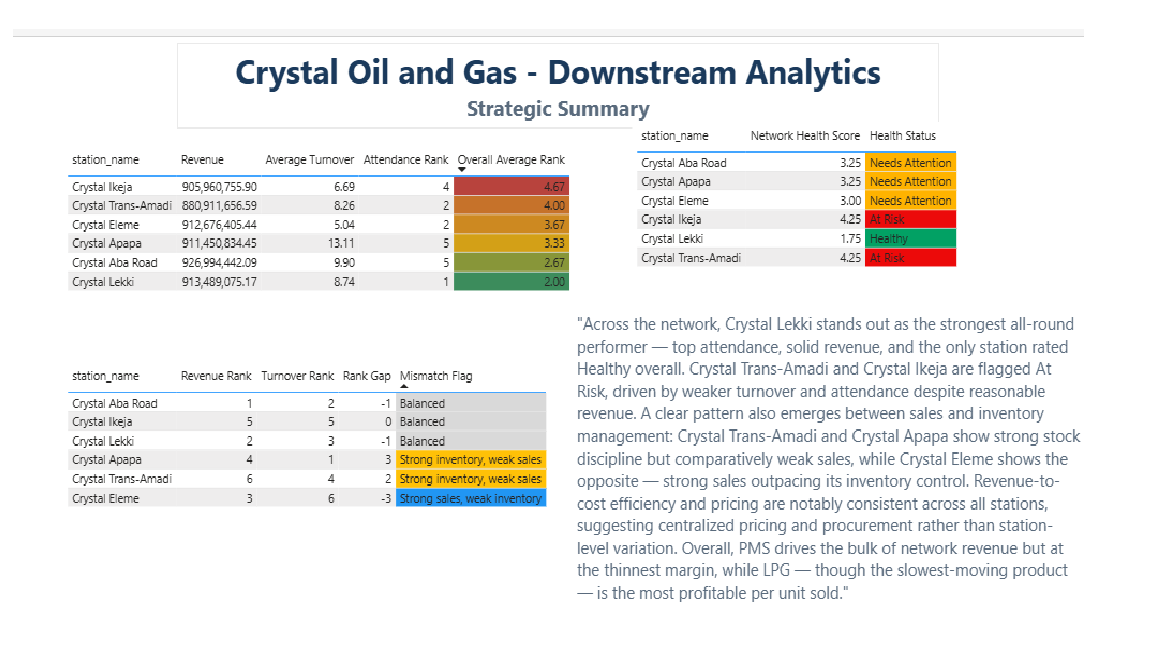

What the dashboard file says about the page in this screenshot:
{"tool":"powerbi","page":{"name":"Strategic Sumary","canvas":[1280,720],"ordinal":5},"visuals":[{"type":"textbox","box":[192.8,68,895.8,94.5],"z":0},{"type":"tableEx","fields":{"Values":["vw_station_overall_performance.station_name","Sum(vw_station_overall_performance.total_revenue)","Avg(vw_station_overall_performance.avg_turnover)","Sum(vw_station_overall_performance.attendance_rank)","Avg(vw_station_overall_performance.overall_avg_rank)"]},"box":[58.6,181.4,621.7,177.6],"z":1000},{"type":"tableEx","fields":{"Values":["vw_sales_vs_inventory_mismatch.station_name","Sum(vw_sales_vs_inventory_mismatch.revenue_rank)","Sum(vw_sales_vs_inventory_mismatch.turnover_rank)","Sum(vw_sales_vs_inventory_mismatch.rank_gap)","vw_sales_vs_inventory_mismatch.mismatch_flag"]},"box":[58.6,419.5,599.1,204.1],"z":1001},{"type":"tableEx","fields":{"Values":["vw_network_health_overview.station_name","Sum(vw_network_health_overview.network_health_score)","vw_network_health_overview.health_status"]},"box":[727.6,155,508.4,230.6],"z":1002},{"type":"textbox","box":[657.6,359.1,606.6,338.3],"z":1003}]}

Visuals, with their boxes in screenshot pixels (x1, y1, x2, y2), scaled from the page's 1280x720 canvas onto the 1152x648 screenshot:
textbox: box(174, 61, 980, 146)
tableEx - vw_station_overall_performance.station_name x Sum(vw_station_overall_performance.total_revenue): box(53, 163, 612, 323)
tableEx - vw_sales_vs_inventory_mismatch.station_name x Sum(vw_sales_vs_inventory_mismatch.revenue_rank): box(53, 378, 592, 561)
tableEx - vw_network_health_overview.station_name x Sum(vw_network_health_overview.network_health_score): box(655, 140, 1112, 347)
textbox: box(592, 323, 1138, 628)
